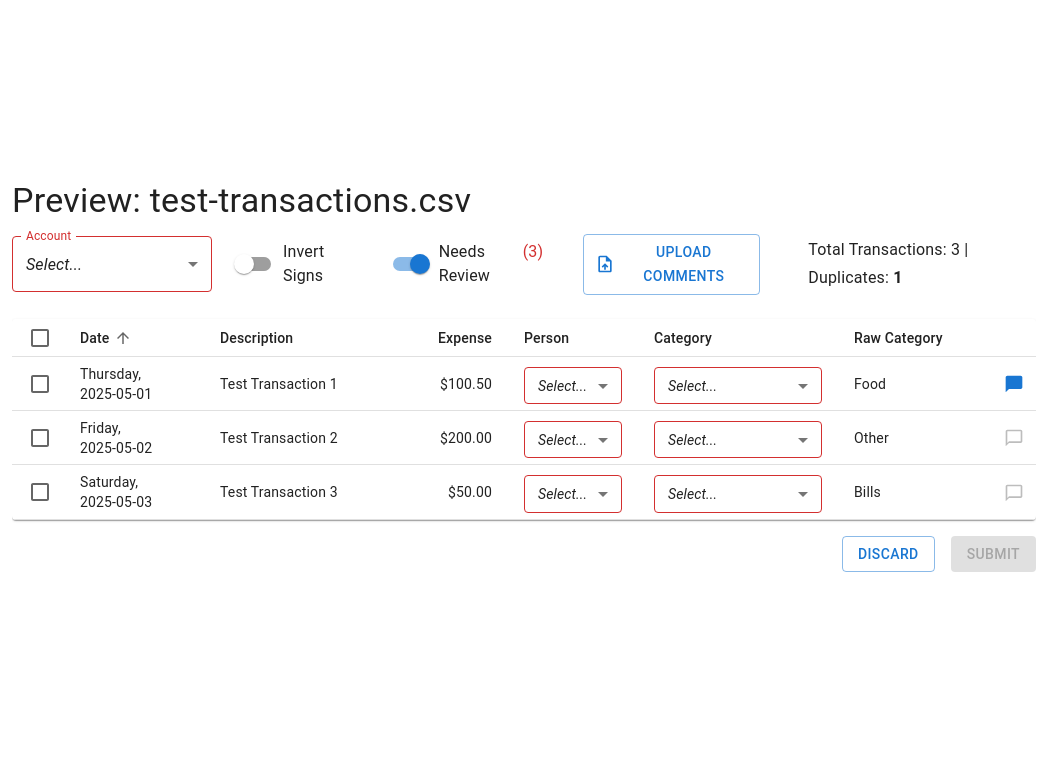
Scenario: PreviewPage › clears undo state when account is changed
This screenshot has width=1048, height=768.
Expected: the text "Test Transaction 1" is shown, [204,357,396,411]
// Trigger undo snackbar
Press the mouse on the 3rd dropdown "Select..." at (693, 386), box [668,378,717,394]
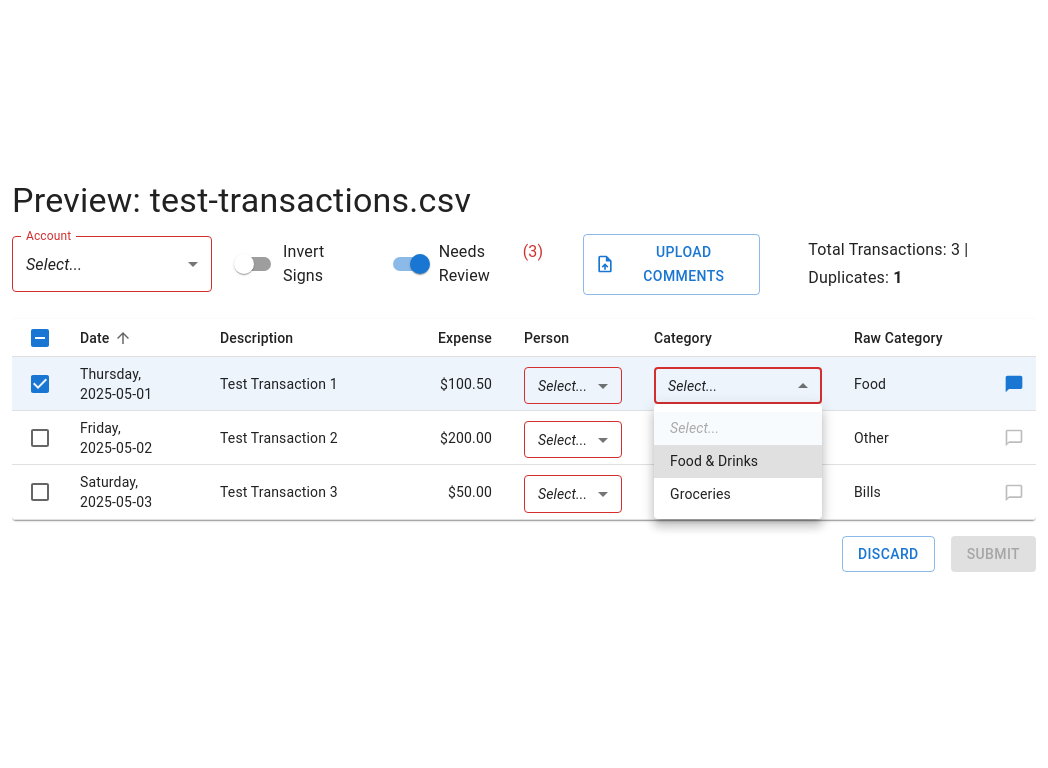
Click the option "Groceries" at (700, 494), box [670,486,731,502]
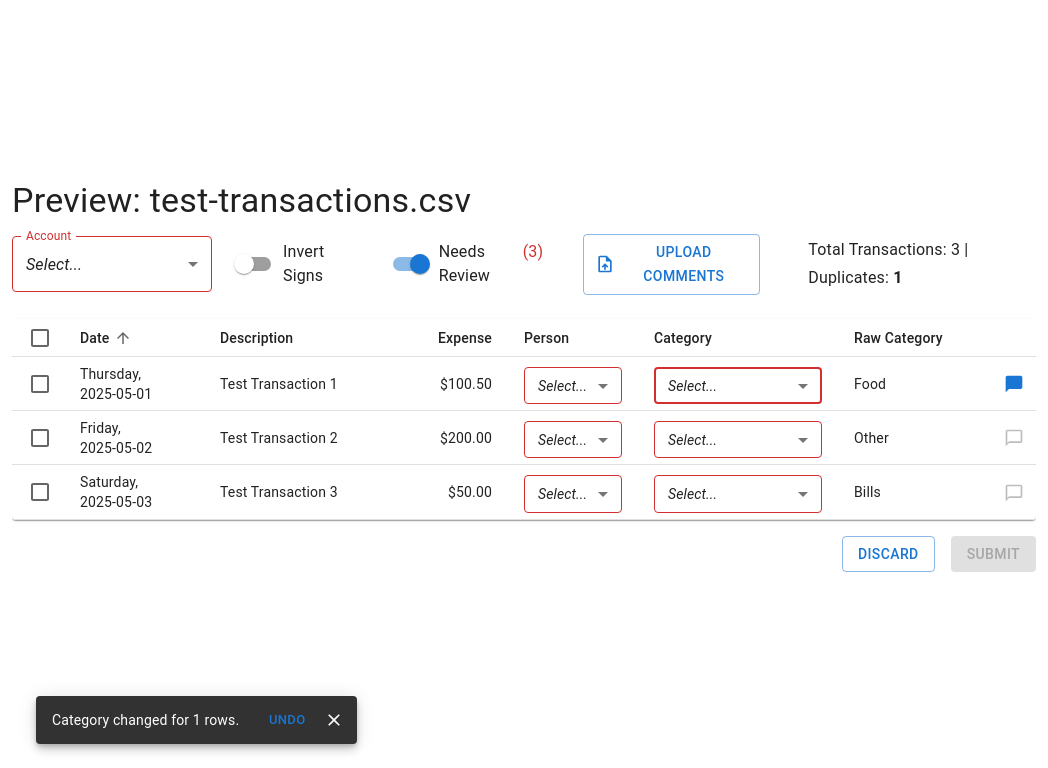
Result: the text "Category changed for 1 rows." is shown at [52,712,239,728]
// Change account
Press the mouse on the dropdown named "Account" at (54, 264), box [26,255,82,274]
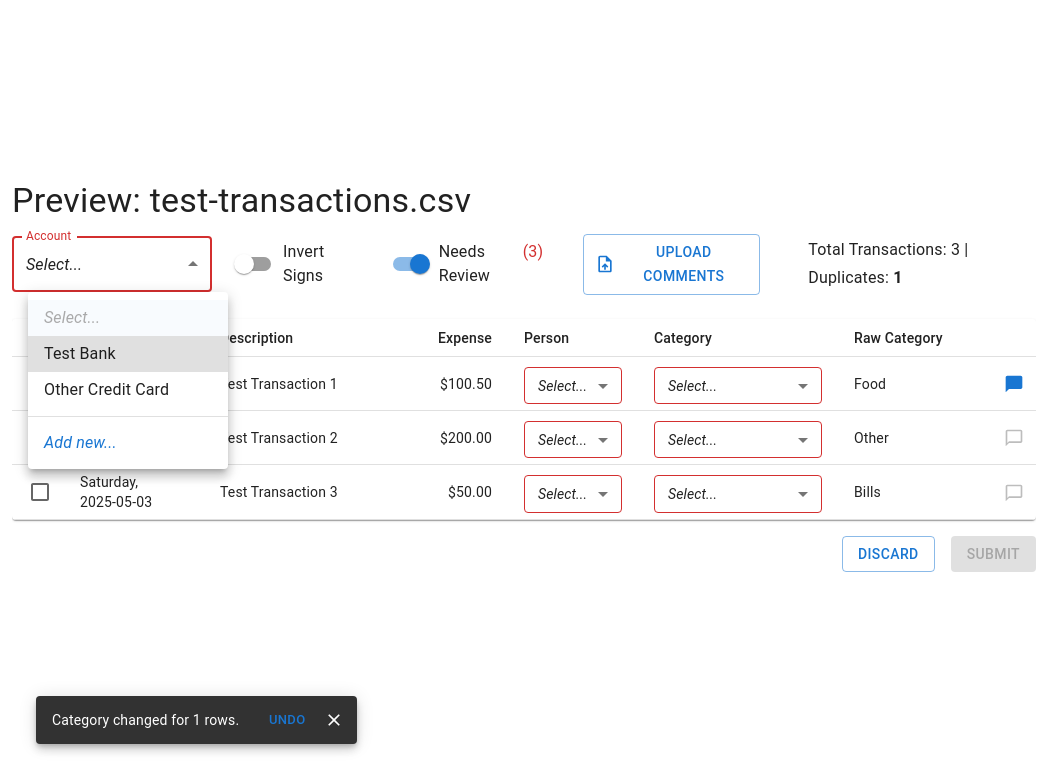
Click the option "Test Bank" at (128, 354), box [28,336,228,372]
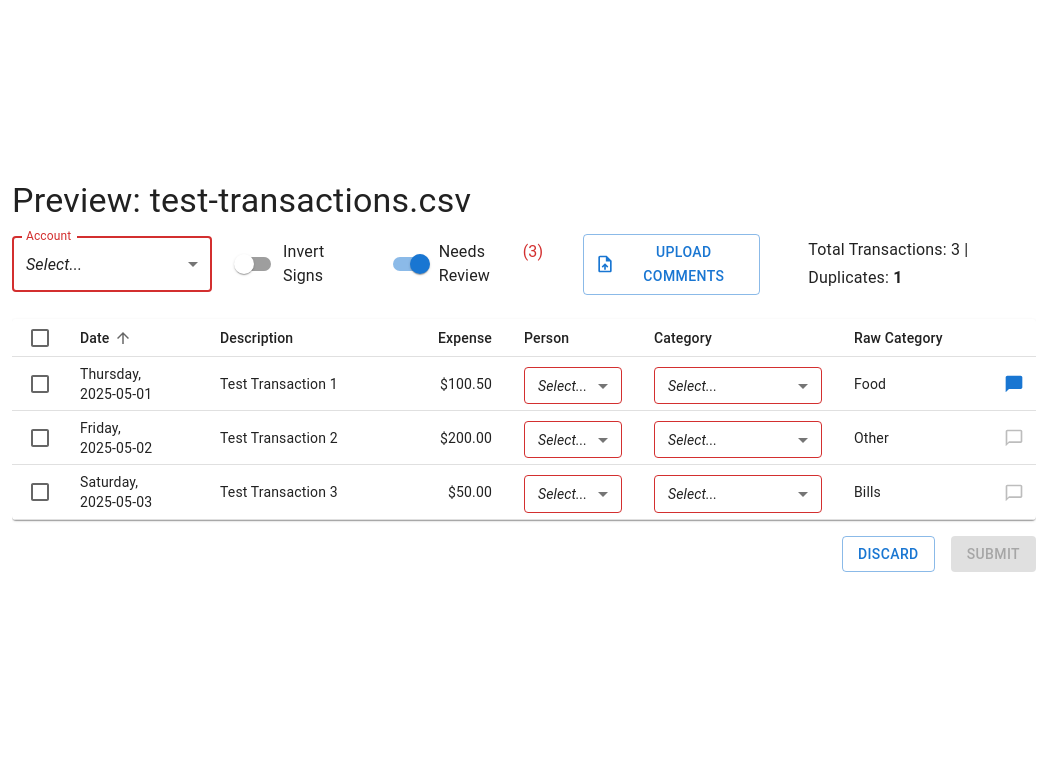
Result: the text "Category changed for 1 rows." is gone
